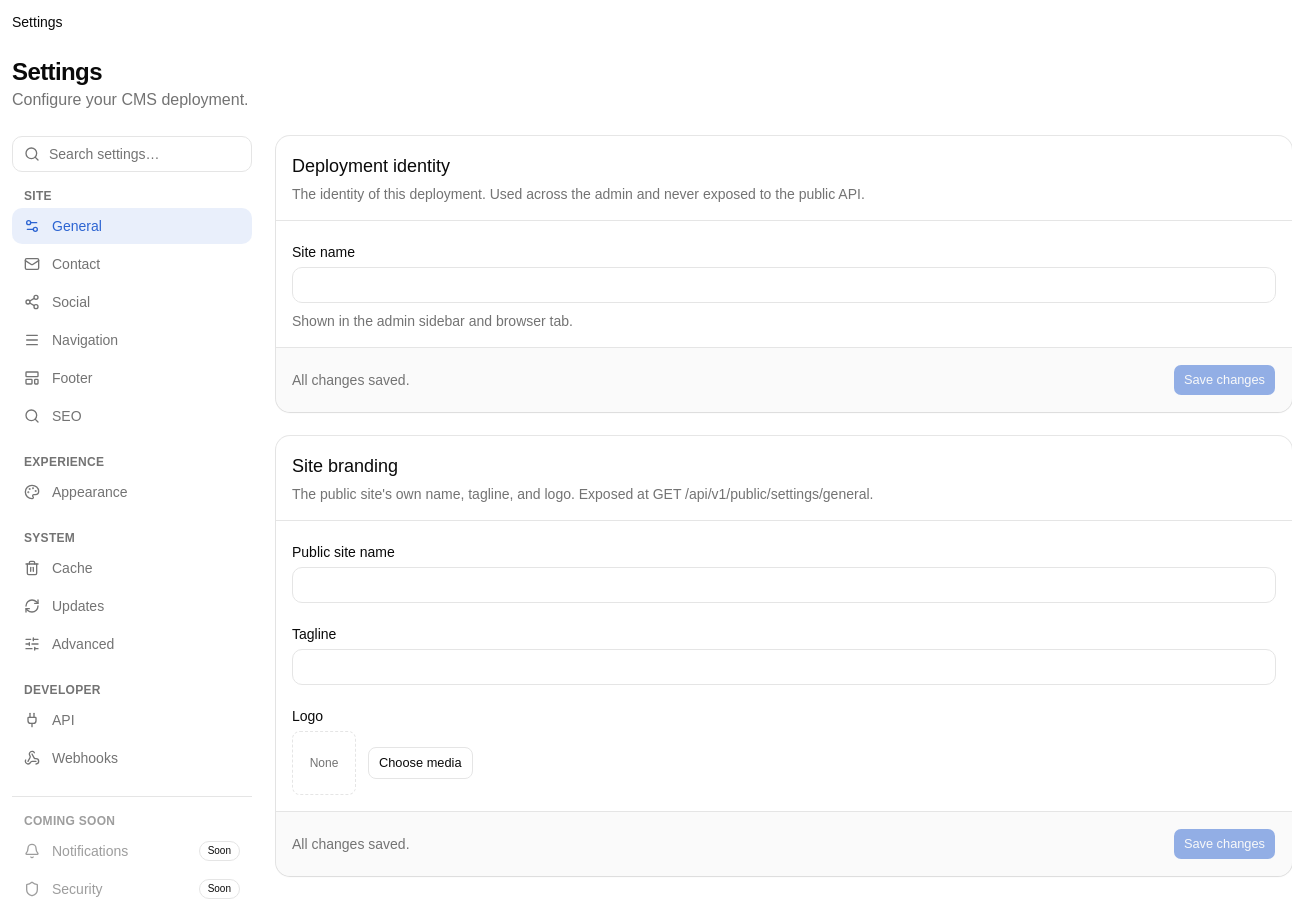
Test case: SettingsPage › flags Turnstile as "not set" when TURNSTILE_SITE_KEY is unset, without implying the bot check is off
Check: the field labelled "Site name" is shown, box [292, 267, 1276, 303]
Click the button "API": click(132, 720) [12, 702, 252, 738]
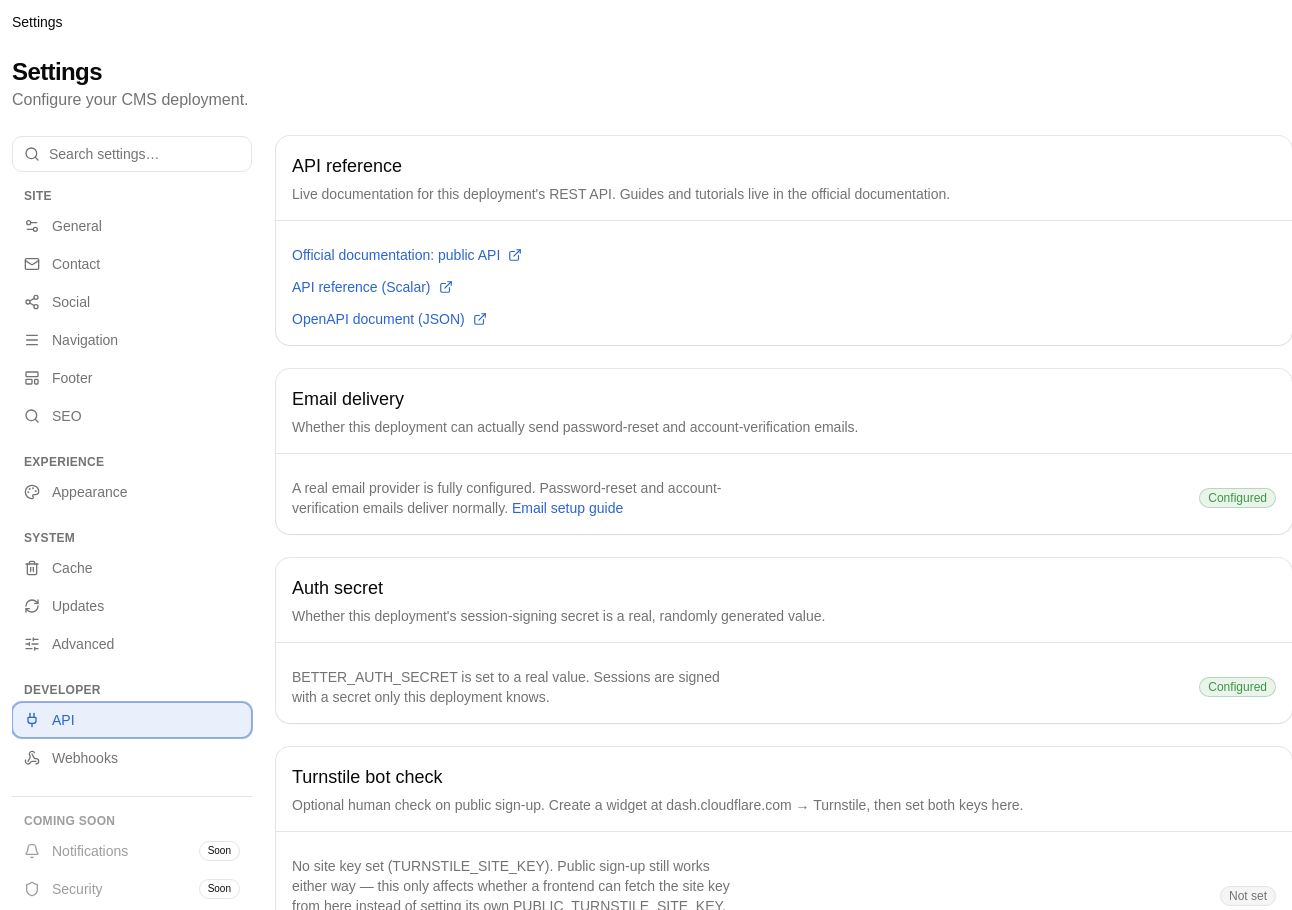
Check: the icon "Not set" is shown, box [1220, 886, 1276, 906]
